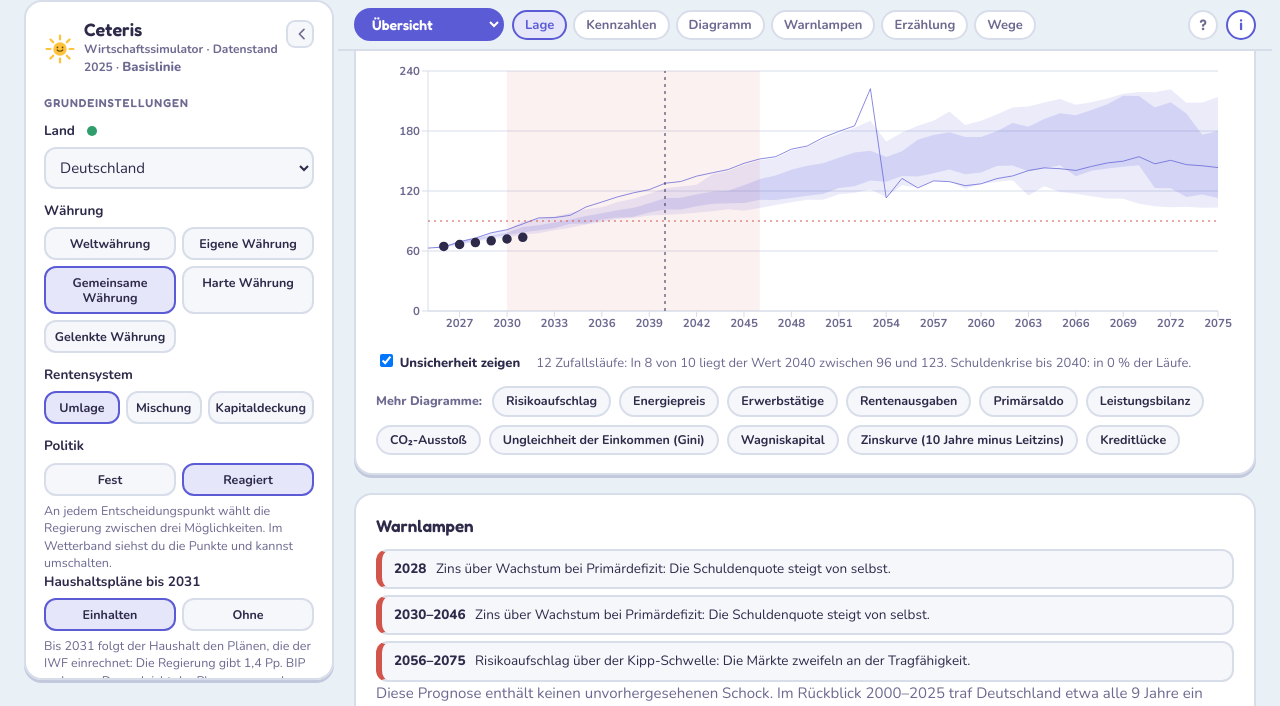
Test: 13.4 Unsicherheitsband › aus und wieder an: Der fertige Fächer ist sofort wieder da, ohne neu zu rechnen
(page scrolled)
Expected: the text "12 Zufallsläufe" is shown, left=536, top=354, right=947, bottom=372
Click the checkbox labelled "Unsicherheit zeigen".
click(386, 361)  # box left=380, top=354, right=393, bottom=367
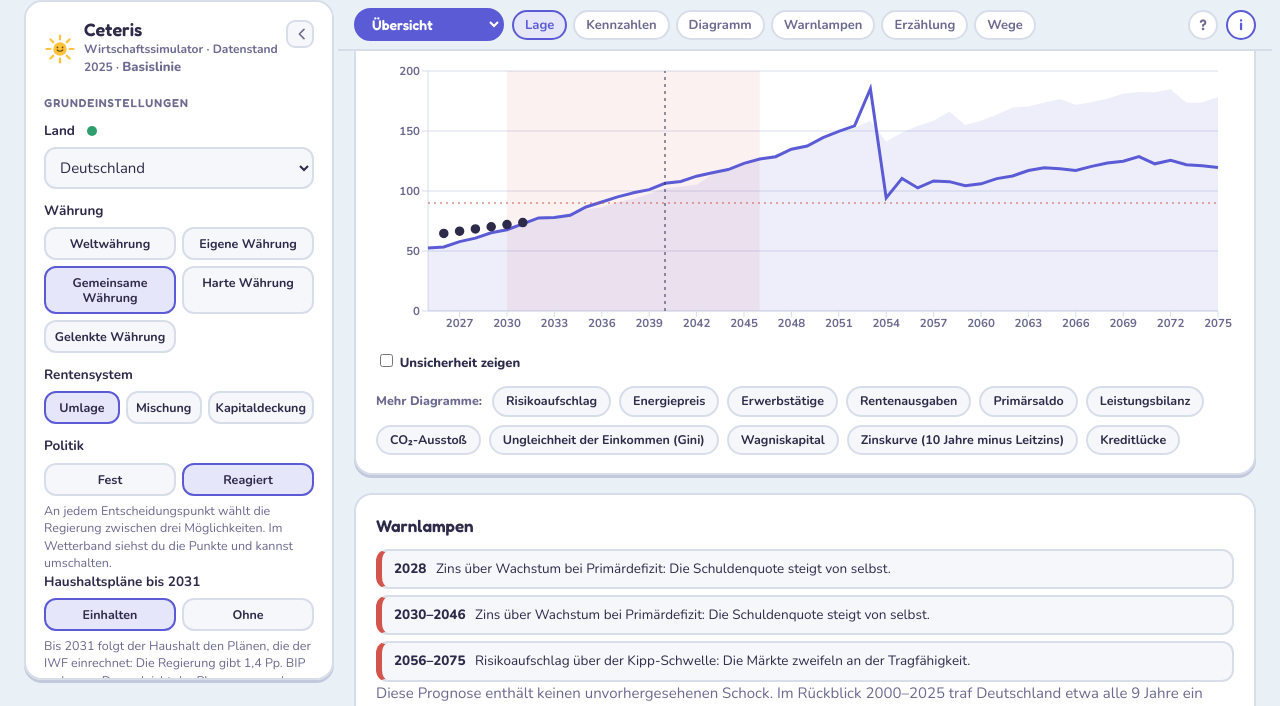
Click the checkbox labelled "Unsicherheit zeigen".
click(386, 361)  # box left=380, top=354, right=393, bottom=367
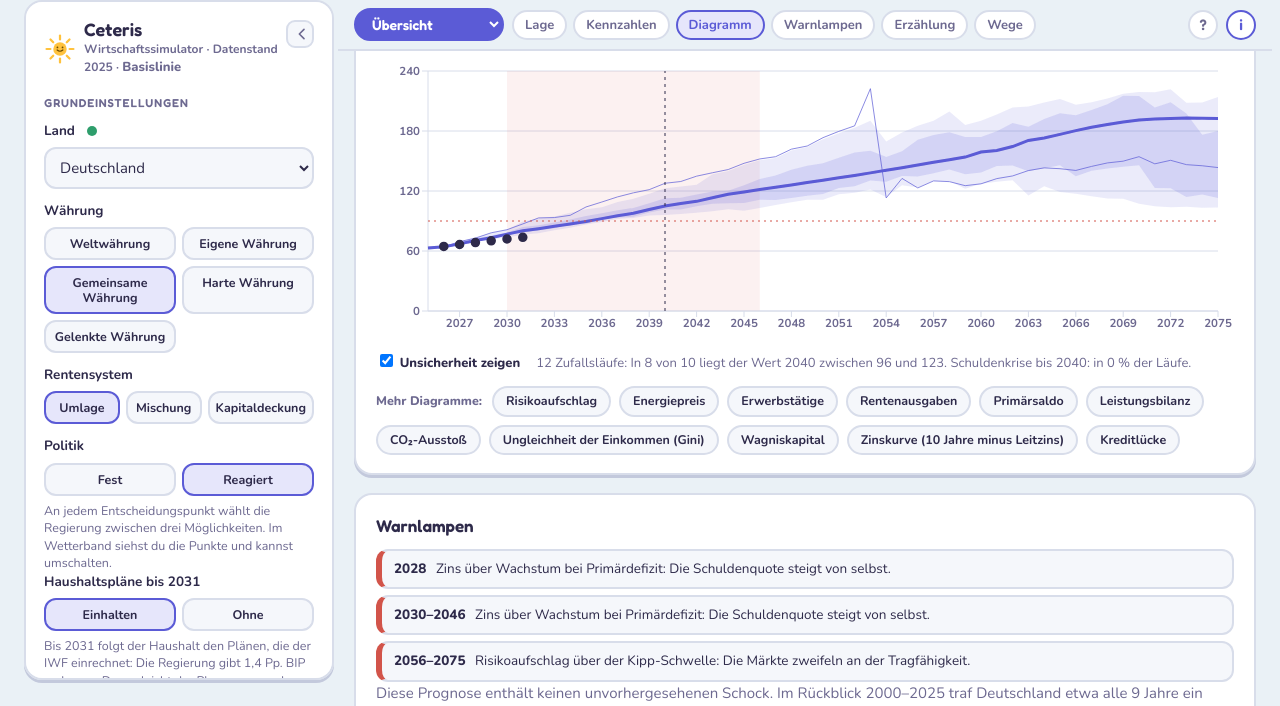
Now the text "12 Zufallsläufe: In 8 von 10" is shown, box left=536, top=354, right=947, bottom=372
